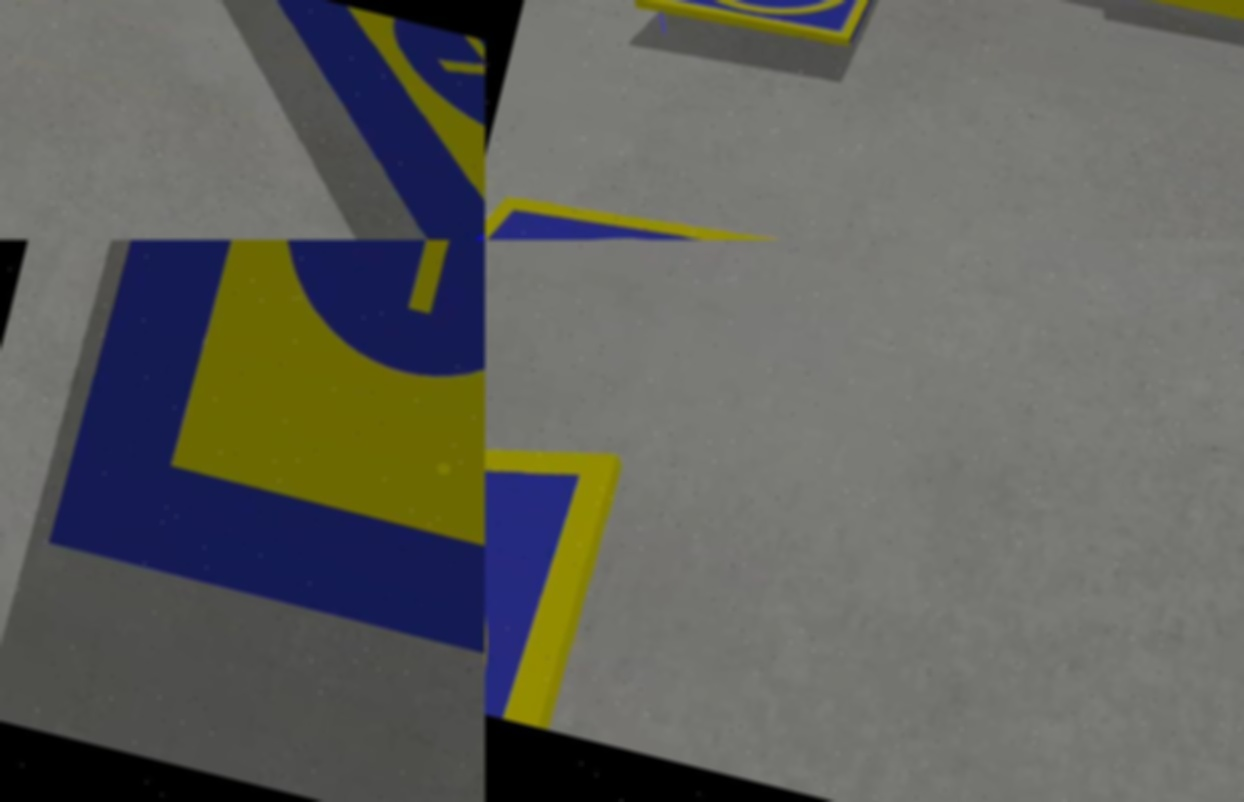large_base: (46, 241, 486, 693), (206, 1, 486, 241)
small_base: (486, 402, 629, 731), (637, 1, 889, 58)
